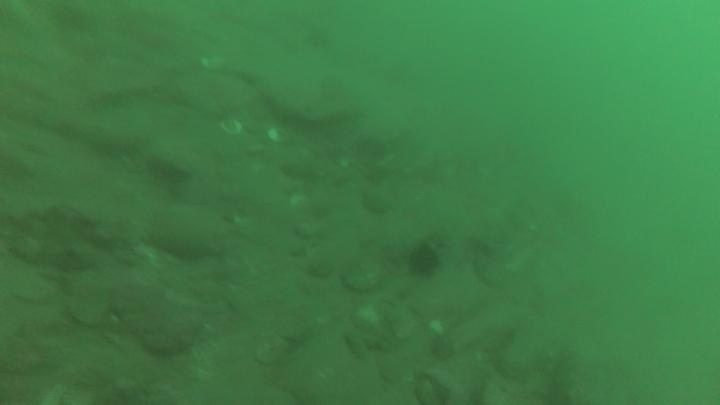echinus: (405, 241, 443, 281)
